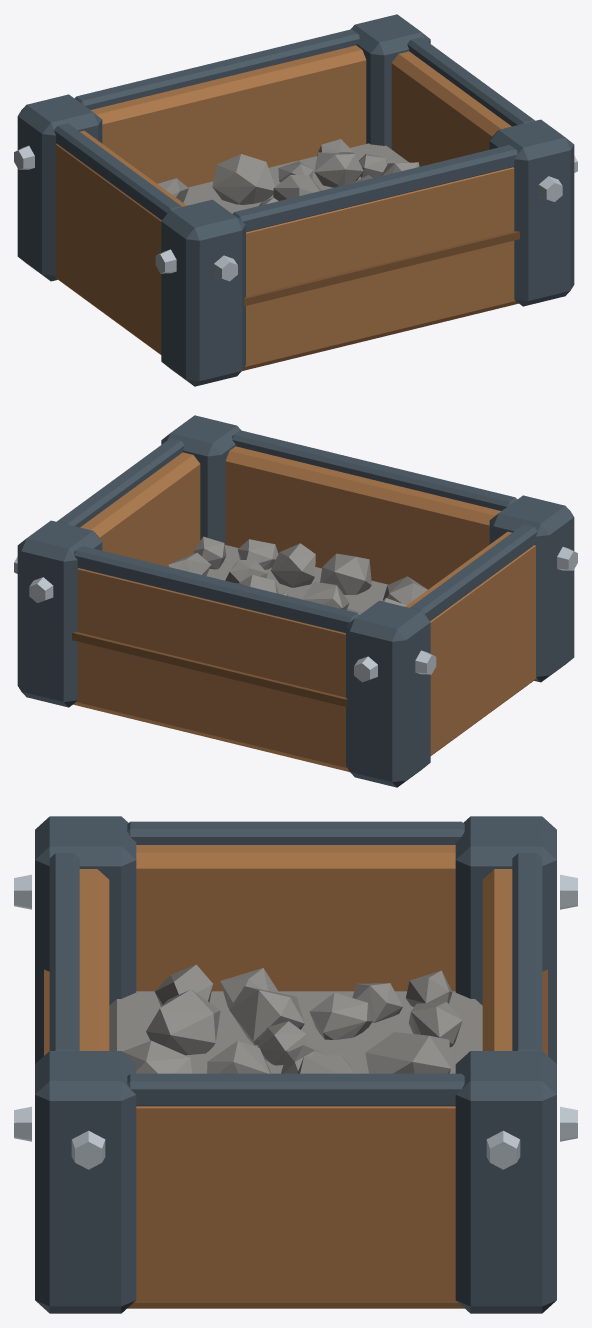
Rendered from Station_RubbleBin.fbx.
3 renders of one model, top to bottom at view 1: azimuth 30°, elevation 25°; view 2: azimuth 150°, elevation 25°; view 3: azimuth 270°, elevation 25°, orthographic. The views are drawn at different scales.
Visible parts, largest first — view 1: Wood, Frame, Fill.001, WoodDark, SteelLight; view 2: Wood, Frame, Fill.001, WoodDark, SteelLight; view 3: Wood, Frame, Fill.001, SteelLight, WoodDark.
Part boxes in pixels (x1,y1,x2,y2): Wood: [55, 45, 518, 370]; Frame: [17, 14, 574, 386]; Fill.001: [157, 139, 419, 213]; WoodDark: [244, 231, 519, 306]; SteelLight: [14, 146, 577, 281]; Wood: [73, 446, 536, 771]; Frame: [17, 415, 574, 787]; Fill.001: [168, 536, 427, 614]; WoodDark: [72, 632, 347, 707]; SteelLight: [14, 547, 577, 682]; Wood: [79, 845, 512, 1308]; Frame: [35, 816, 556, 1313]; Fill.001: [109, 964, 482, 1073]; SteelLight: [14, 874, 577, 1169]; WoodDark: [44, 969, 547, 1055].
Bounding box in the file's own units: 2.34 × 0.86 × 1.89.
